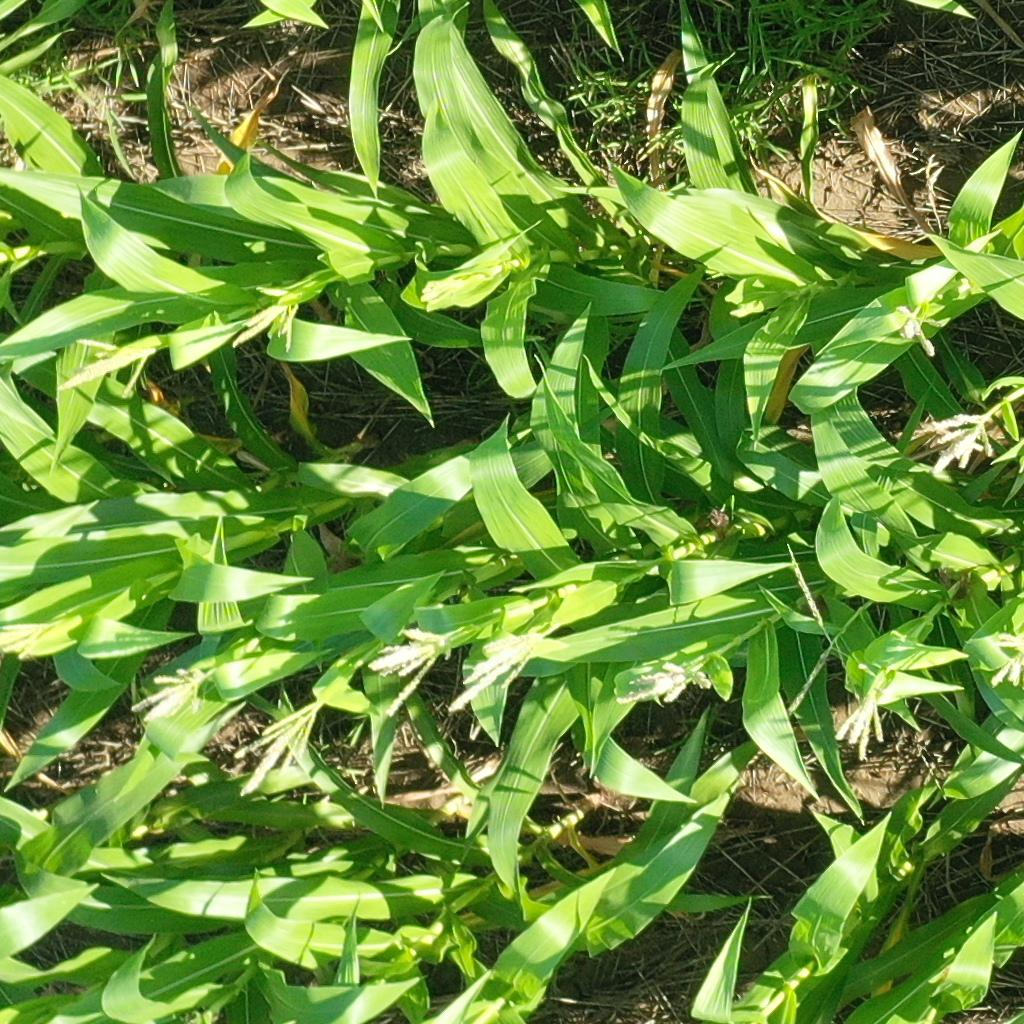Tassel: (232, 698, 326, 802), (447, 626, 554, 715), (367, 622, 455, 717), (57, 336, 163, 403), (912, 404, 998, 473), (128, 663, 214, 726), (230, 284, 303, 354), (618, 659, 716, 710), (833, 686, 892, 761), (899, 305, 954, 359), (1, 620, 61, 661), (983, 627, 1024, 686), (415, 270, 467, 307)
